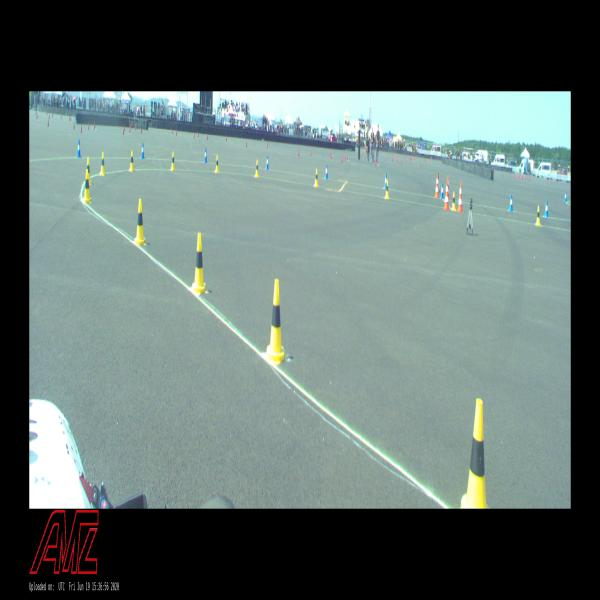blue_cone: (76, 139, 82, 158), (544, 201, 549, 218), (509, 194, 513, 212), (440, 183, 444, 200), (204, 148, 208, 164), (140, 143, 144, 159), (384, 173, 387, 190), (325, 164, 328, 180), (266, 155, 269, 170), (564, 191, 567, 202)
large_orange_cone: (458, 180, 464, 212), (444, 179, 449, 210), (435, 172, 440, 199), (447, 175, 450, 200)
yellow_cone: (460, 398, 490, 509), (265, 279, 288, 366), (190, 232, 208, 294), (134, 198, 146, 246), (83, 169, 91, 203), (85, 157, 92, 185), (100, 152, 106, 175), (535, 205, 541, 226), (129, 150, 135, 171), (314, 168, 318, 188), (452, 191, 456, 211), (171, 151, 175, 171), (385, 180, 389, 200), (255, 159, 259, 178), (215, 154, 219, 173)
